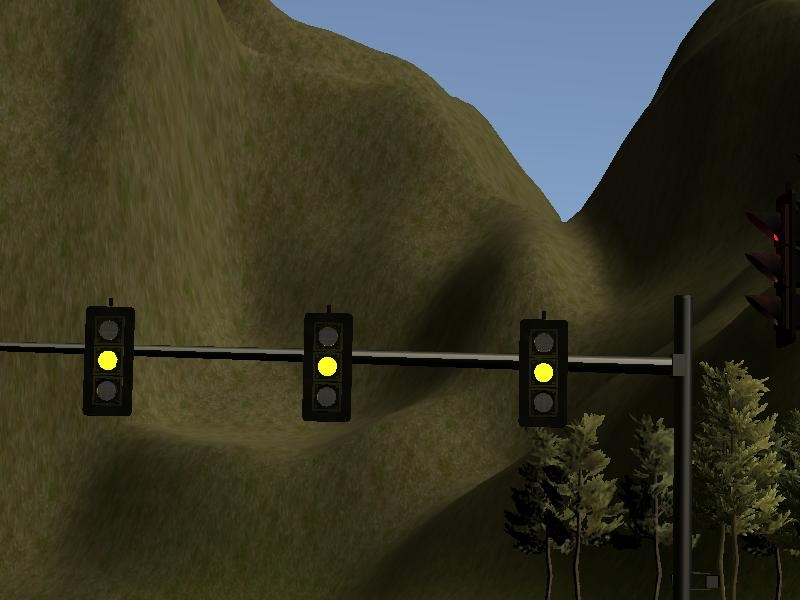YELLOW: (302, 308, 354, 427), (81, 302, 133, 416), (518, 319, 570, 430)
